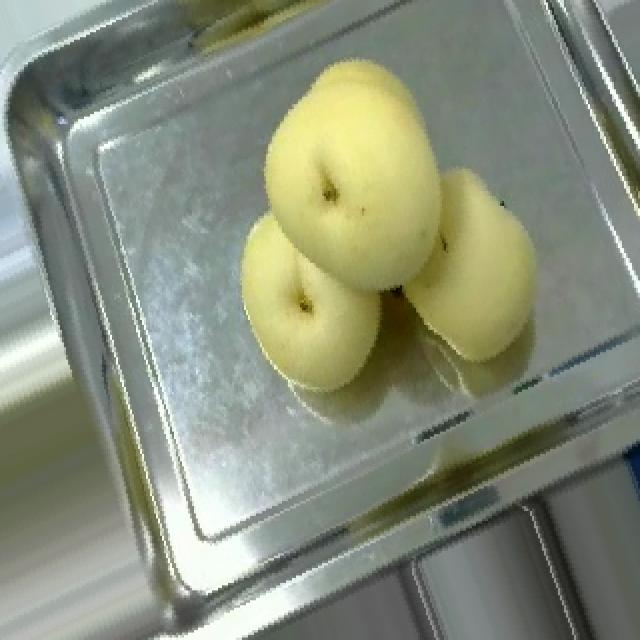Fruit: (222, 28, 506, 322), (378, 134, 576, 384), (0, 362, 164, 640)
